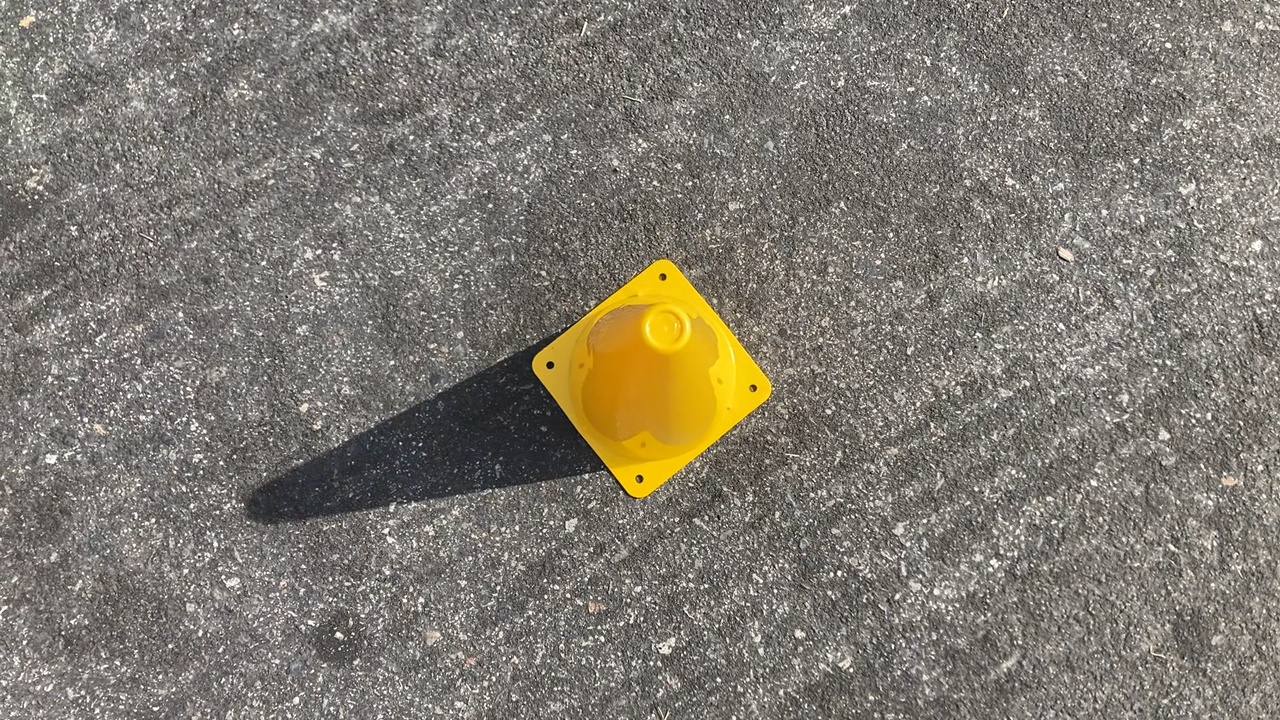yellow_cone: (529, 255, 779, 504)
